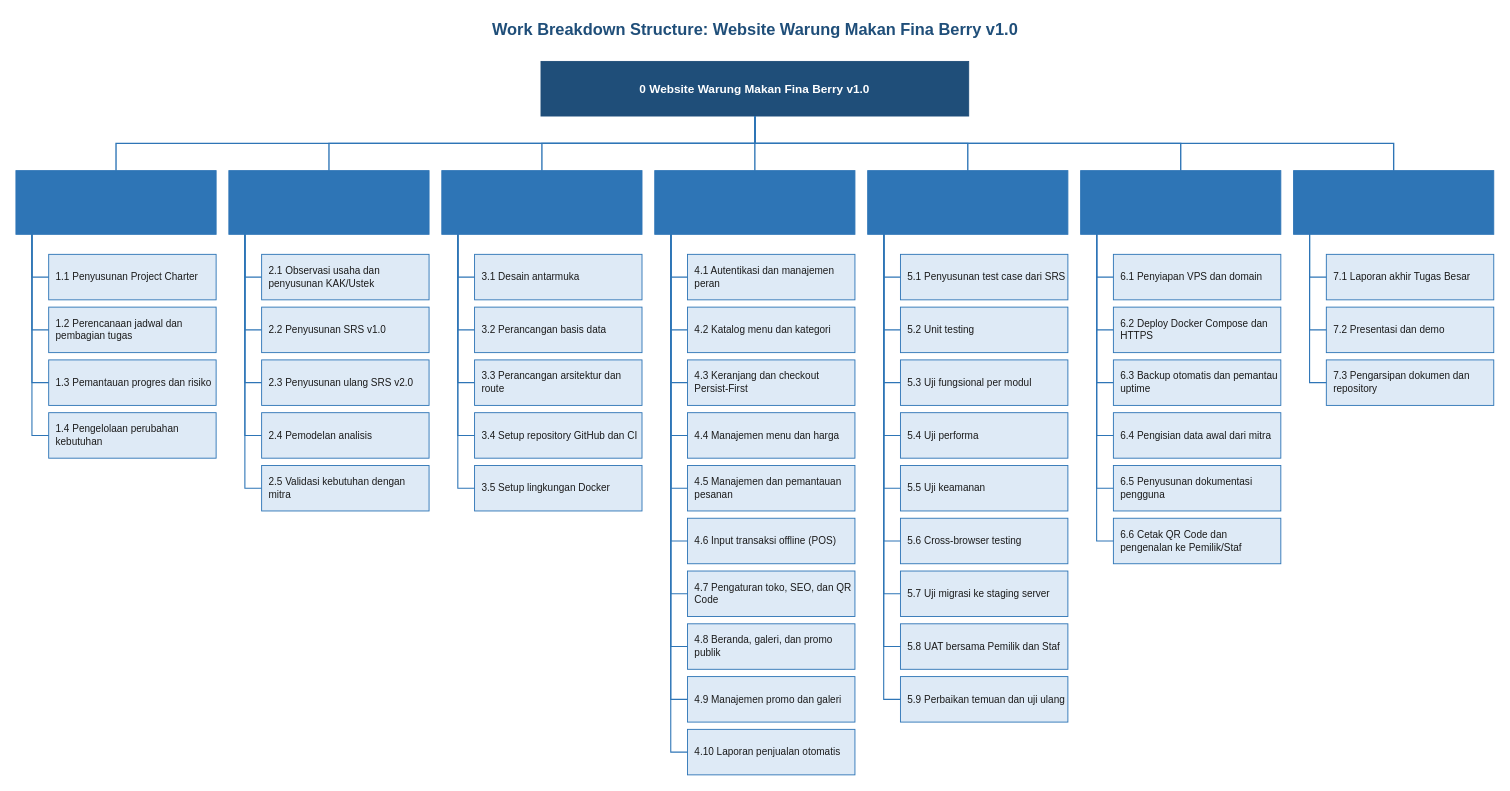
Some shapes in this 1510 by 791 pixel diagram are drawn without their labels. Each missing label, with the centre of its shape:
1 Inisiasi dan Manajemen Proyek: point 115,202
2 Analisis Kebutuhan: point 328,202
3 Perancangan: point 541,202
4 Pengembangan Sistem: point 754,202
5 Pengujian: point 967,202
6 Deployment dan Serah Terima: point 1180,202
7 Penutupan: point 1393,202
